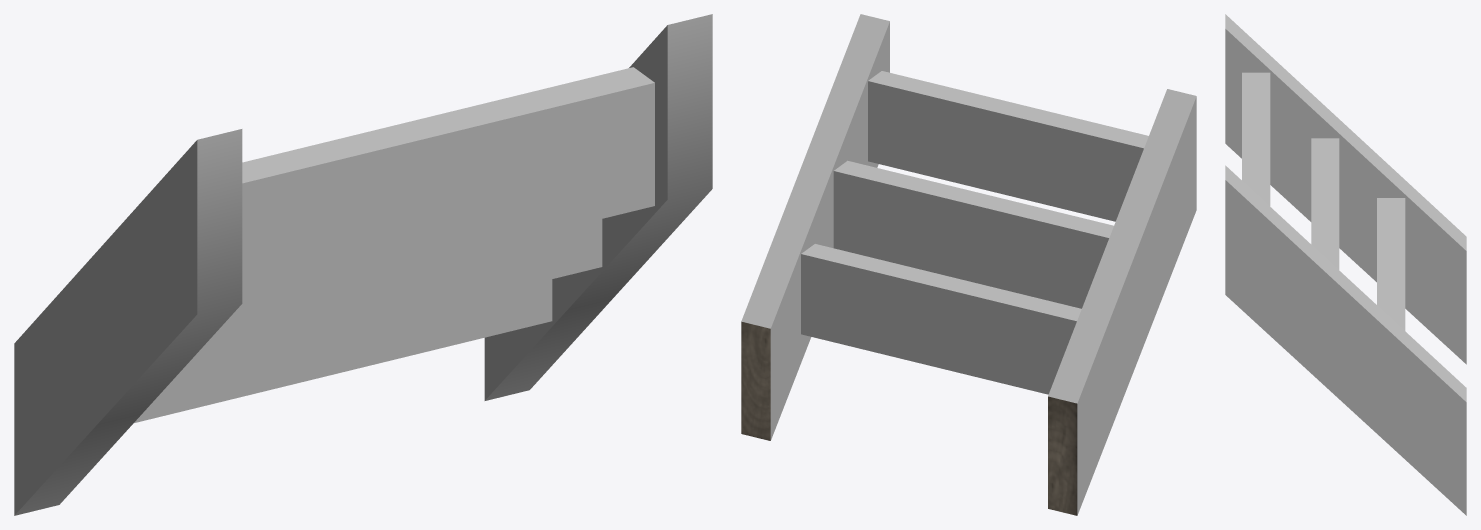
Rendered from Platform_Stairs_A.fbx.
The picture shows the model from 3 angles, left to right: view 1: azimuth 30°, elevation 25°; view 2: azimuth 150°, elevation 25°; view 3: azimuth 270°, elevation 25°; orthographic projection. The views are drawn at different scales.
Parts seen in each view (by area): view 1: Platform_Stairs_A; view 2: Platform_Stairs_A; view 3: Platform_Stairs_A.
Boxes of the visible parts, left/top/right/bottom form: Platform_Stairs_A: left=14, top=14, right=712, bottom=515; Platform_Stairs_A: left=741, top=14, right=1196, bottom=515; Platform_Stairs_A: left=1225, top=14, right=1466, bottom=515.
Size of the model in its own units: 1.46 by 1.38 by 0.8992.
